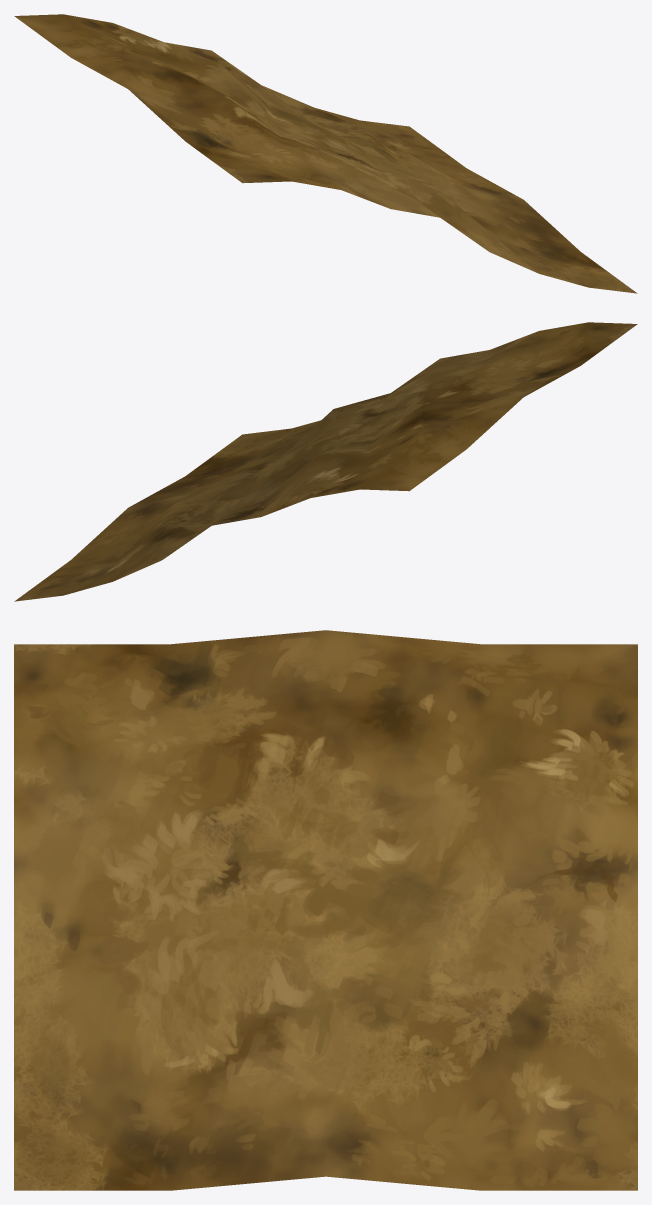
File: Slope_004.fbx
3 views of the same model, one above another, from view 1: azimuth 30°, elevation 25°; view 2: azimuth 150°, elevation 25°; view 3: azimuth 270°, elevation 25° (orthographic). The views are drawn at different scales.
Visible parts, largest first — view 1: Slope_004; view 2: Slope_004; view 3: Slope_004.
Boxes of the visible parts, bbox=[...] form: Slope_004: bbox=[14, 14, 637, 293]; Slope_004: bbox=[14, 322, 637, 601]; Slope_004: bbox=[14, 630, 637, 1190].
Bounding box in the file's own units: 10 × 5.25 × 10.
1 material, 1 textured.
